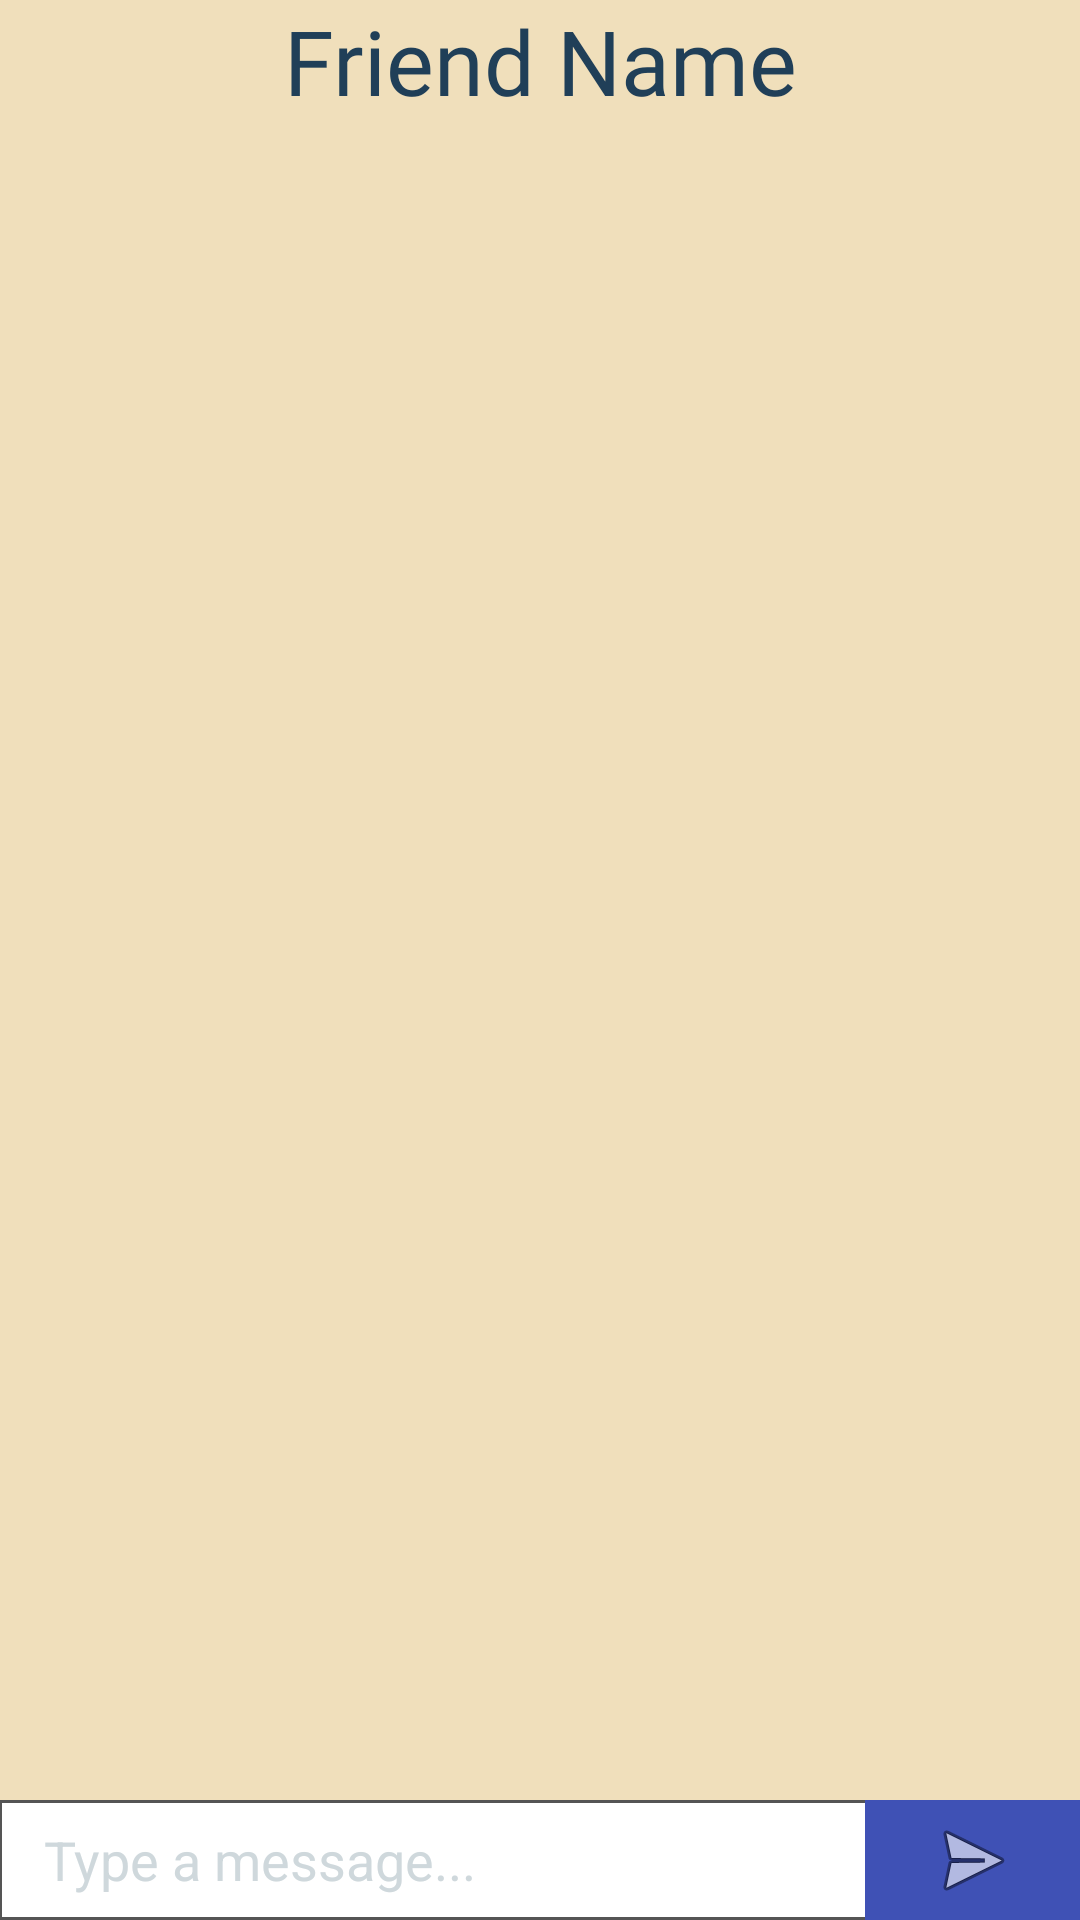

Screen size 1080×1920. Icon name, then its box in pixels as (x1, y1, x2, y2):
send: (865, 1800, 1080, 1920)
